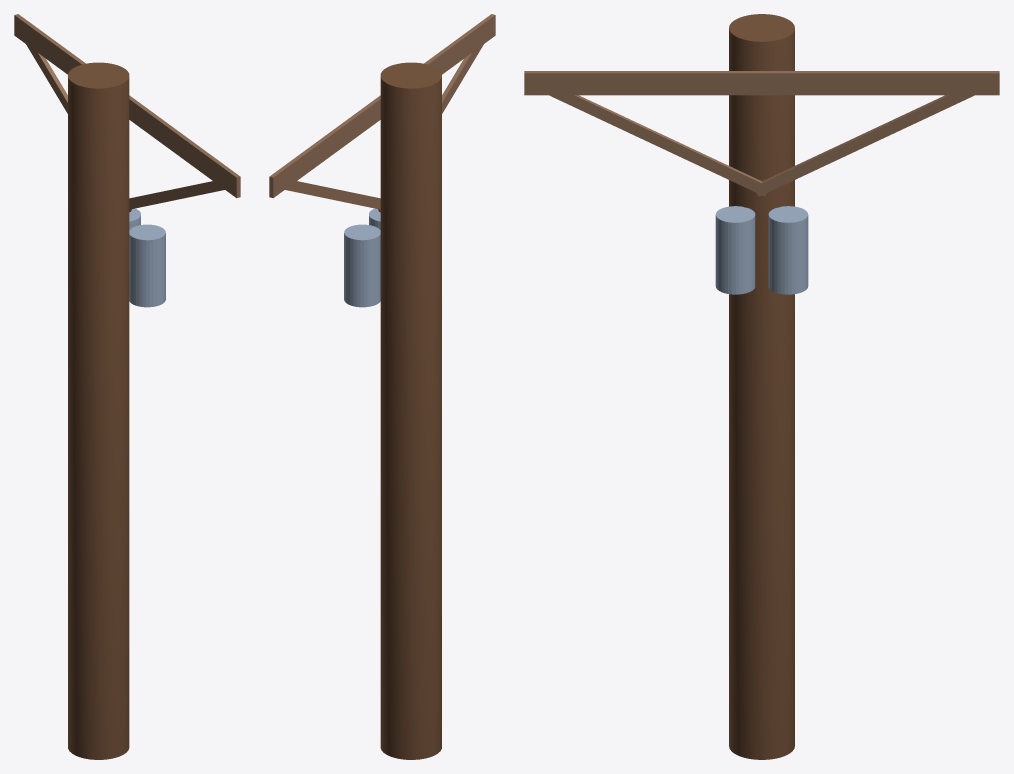
File: tele-pole.dae
3 views of the same model, side by side, from view 1: azimuth 30°, elevation 25°; view 2: azimuth 150°, elevation 25°; view 3: azimuth 270°, elevation 25° (orthographic). The views are drawn at different scales.
Visible parts, largest first — view 1: Cylinder, Cube, Cylinder_001, Cube_001, Cube_002; view 2: Cylinder, Cube, Cylinder_002, Cube_002, Cube_001; view 3: Cylinder, Cube, Cylinder_001, Cylinder_002, Cube_001, Cube_002.
Boxes of the visible parts, box(x1,y1,x2,y2) form: Cylinder: box(68, 62, 129, 759); Cube: box(14, 14, 240, 198); Cylinder_001: box(129, 224, 165, 307); Cube_001: box(129, 181, 224, 209); Cube_002: box(26, 44, 131, 212); Cylinder: box(380, 62, 441, 759); Cube: box(269, 14, 495, 198); Cylinder_002: box(344, 224, 380, 307); Cube_002: box(285, 181, 380, 209); Cube_001: box(378, 44, 483, 212); Cylinder: box(729, 14, 794, 759); Cube: box(524, 71, 999, 95); Cylinder_001: box(715, 206, 755, 294); Cylinder_002: box(768, 206, 808, 294); Cube_001: box(542, 83, 770, 196); Cube_002: box(757, 83, 981, 196).
Bounding box in the file's own units: 0.74 × 3.6 × 6.
